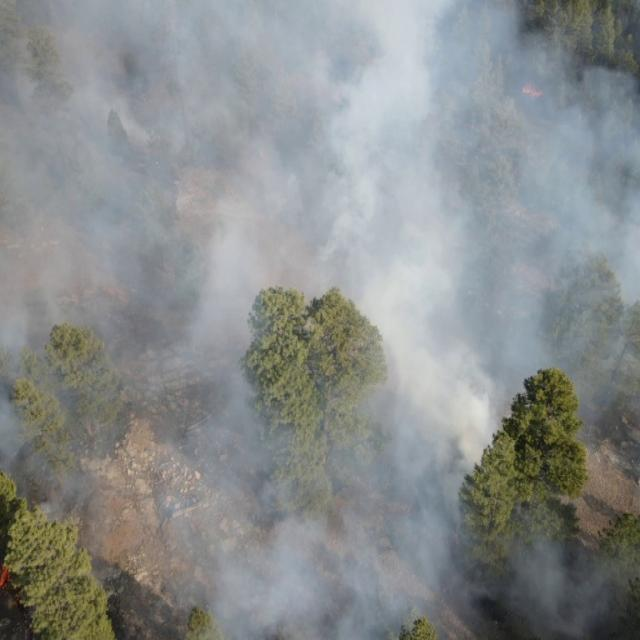fire: (522, 80, 546, 102), (0, 565, 14, 590)
smoke: (0, 0, 640, 640)
